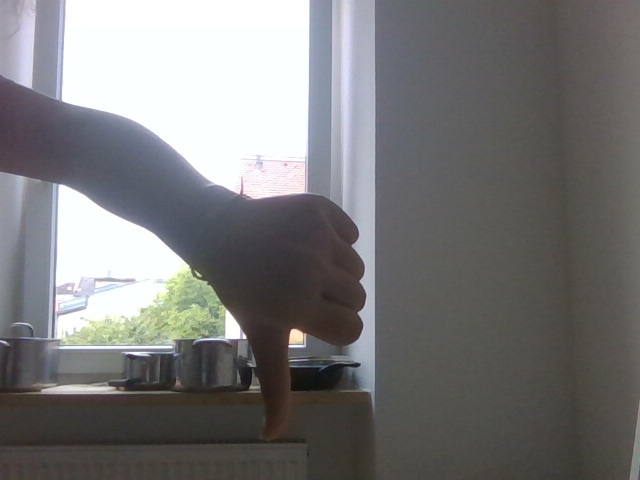thumbs_down: (194, 165, 395, 447)
